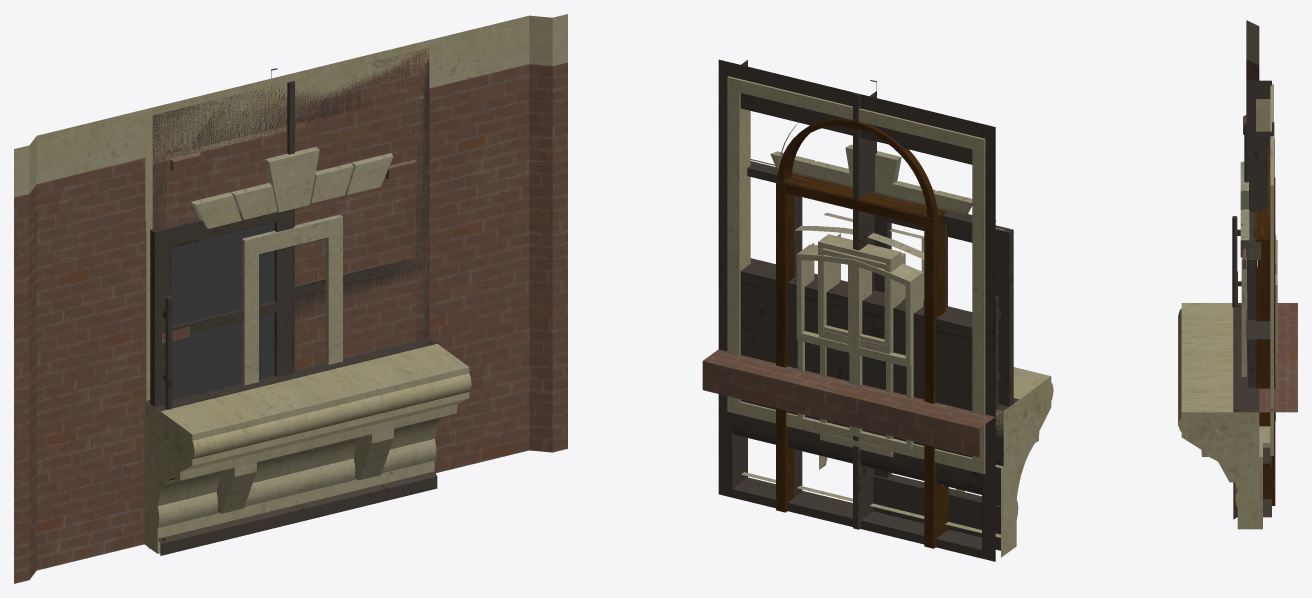
File: kit-pieces.glb
3 renders of one model, left to right at view 1: azimuth 30°, elevation 25°; view 2: azimuth 150°, elevation 25°; view 3: azimuth 270°, elevation 25°, orthographic. The views are drawn at different scales.
Parts seen in each view (by area): view 1: Brick_Inset_Window_Curved_Small, Cornice_Trim_Center, Brick_Plain_3, Brick_Window_Square_Single, Door_2, Brick_Window_Trim_Single, Brick_BottomTrim, Metal_Window_Half, Door_3, Cornice_Metal_Center, Trim_FirstFloor_Window_001, DoorFrame_Metal_Single (+2 smaller); view 2: Metal_Window_Half, DoorFrame_Metal_Single, Trim_FirstFloor_Window_001, DoorFrame_Trim, Cornice_Brick_Center, Door_2, Brick_Inset_Window_Curved_Small, Brick_Window_Trim_Single, Cornice_Trim_Center, Brick_Window_Square_Single, Metal_FullWindow, Metal_FirstFloor_Window (+1 smaller); view 3: Cornice_Trim_Center, DoorFrame_Trim, Cornice_Brick_Center, Trim_FirstFloor_Window_001, Metal_Window_Half, Metal_FirstFloor_Window, Cornice_Metal_Center, DoorFrame_Metal_Single, Brick_Inset_Window_Curved_Small, Brick_Window_Trim_Single, Metal_FullWindow, Brick_Window_Square_Single (+1 smaller).
Part boxes in pixels (bbox=[...]): Brick_Inset_Window_Curved_Small: bbox=[14, 14, 567, 583]; Cornice_Trim_Center: bbox=[144, 344, 471, 553]; Brick_Plain_3: bbox=[153, 49, 429, 370]; Brick_Window_Square_Single: bbox=[152, 48, 429, 385]; Door_2: bbox=[150, 209, 293, 409]; Brick_Window_Trim_Single: bbox=[152, 48, 429, 346]; Brick_BottomTrim: bbox=[153, 50, 429, 367]; Metal_Window_Half: bbox=[152, 54, 429, 319]; Door_3: bbox=[150, 219, 293, 406]; Cornice_Metal_Center: bbox=[145, 337, 437, 555]; Trim_FirstFloor_Window_001: bbox=[146, 49, 428, 548]; DoorFrame_Metal_Single: bbox=[153, 49, 429, 340]; Metal_Window_Half: bbox=[718, 61, 995, 559]; DoorFrame_Metal_Single: bbox=[718, 59, 996, 561]; Trim_FirstFloor_Window_001: bbox=[727, 76, 1002, 537]; DoorFrame_Trim: bbox=[776, 118, 1009, 557]; Cornice_Brick_Center: bbox=[702, 349, 1002, 457]; Door_2: bbox=[873, 214, 1013, 550]; Brick_Inset_Window_Curved_Small: bbox=[795, 226, 924, 449]; Brick_Window_Trim_Single: bbox=[750, 144, 972, 485]; Cornice_Trim_Center: bbox=[819, 367, 1053, 555]; Brick_Window_Square_Single: bbox=[819, 212, 924, 454]; Metal_FullWindow: bbox=[732, 93, 981, 541]; Metal_FirstFloor_Window: bbox=[741, 60, 1014, 549]; Cornice_Trim_Center: bbox=[1178, 303, 1259, 529]; DoorFrame_Trim: bbox=[1249, 131, 1275, 529]; Cornice_Brick_Center: bbox=[1259, 303, 1297, 412]; Trim_FirstFloor_Window_001: bbox=[1256, 84, 1273, 456]; Metal_Window_Half: bbox=[1244, 109, 1273, 517]; Metal_FirstFloor_Window: bbox=[1240, 80, 1274, 528]; Cornice_Metal_Center: bbox=[1233, 303, 1259, 519]; DoorFrame_Metal_Single: bbox=[1246, 109, 1261, 387]; Brick_Inset_Window_Curved_Small: bbox=[1246, 20, 1277, 421]; Brick_Window_Trim_Single: bbox=[1240, 115, 1276, 447]; Metal_FullWindow: bbox=[1244, 109, 1273, 358]; Brick_Window_Square_Single: bbox=[1241, 240, 1276, 376].
Size of the model in its own units: 4 by 3.01 by 0.9278.
7 materials, 6 textured.
